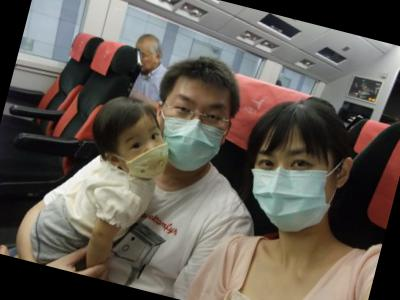with_mask: (237, 130, 346, 243), (148, 86, 235, 179), (112, 115, 178, 186)
without_mask: (135, 48, 158, 76)
